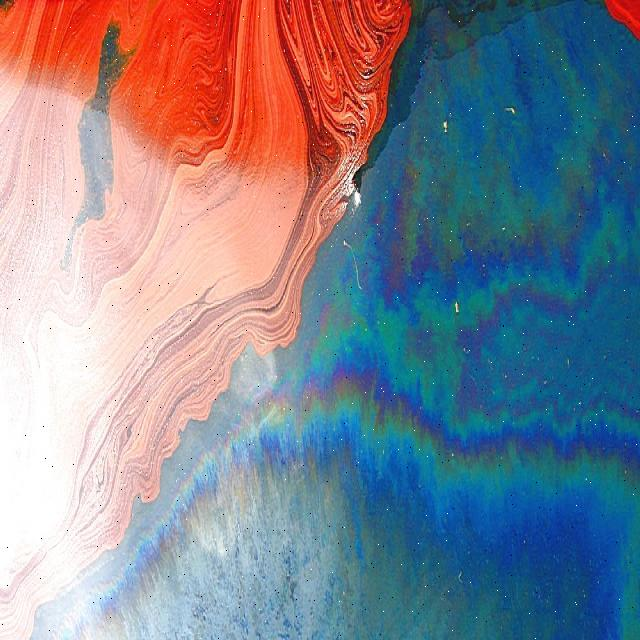sheen: (274, 250, 640, 443)
truecolor: (0, 0, 411, 639)
